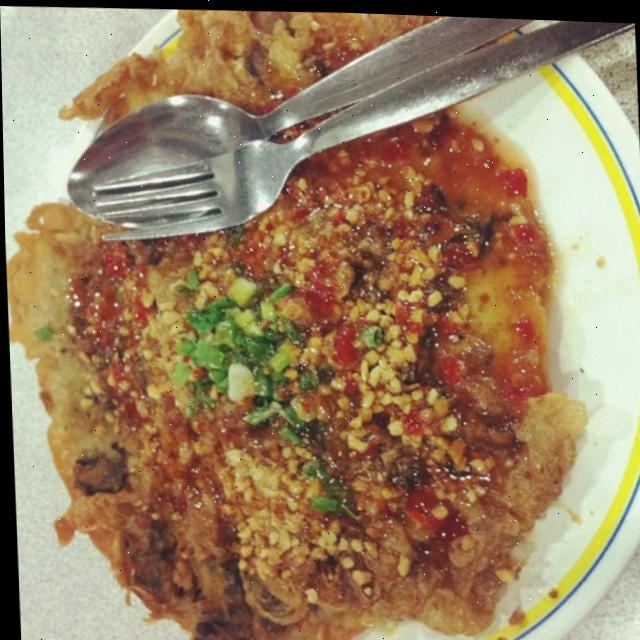炸货点心: (17, 19, 608, 640)
蛋糕甜品: (17, 19, 608, 640)
